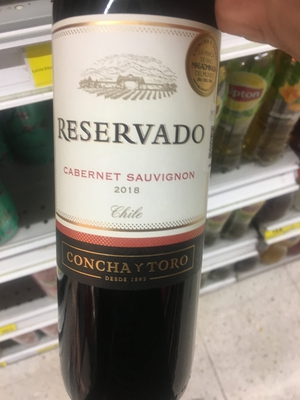reservado cabernet sauvignon: (47, 8, 227, 400)
